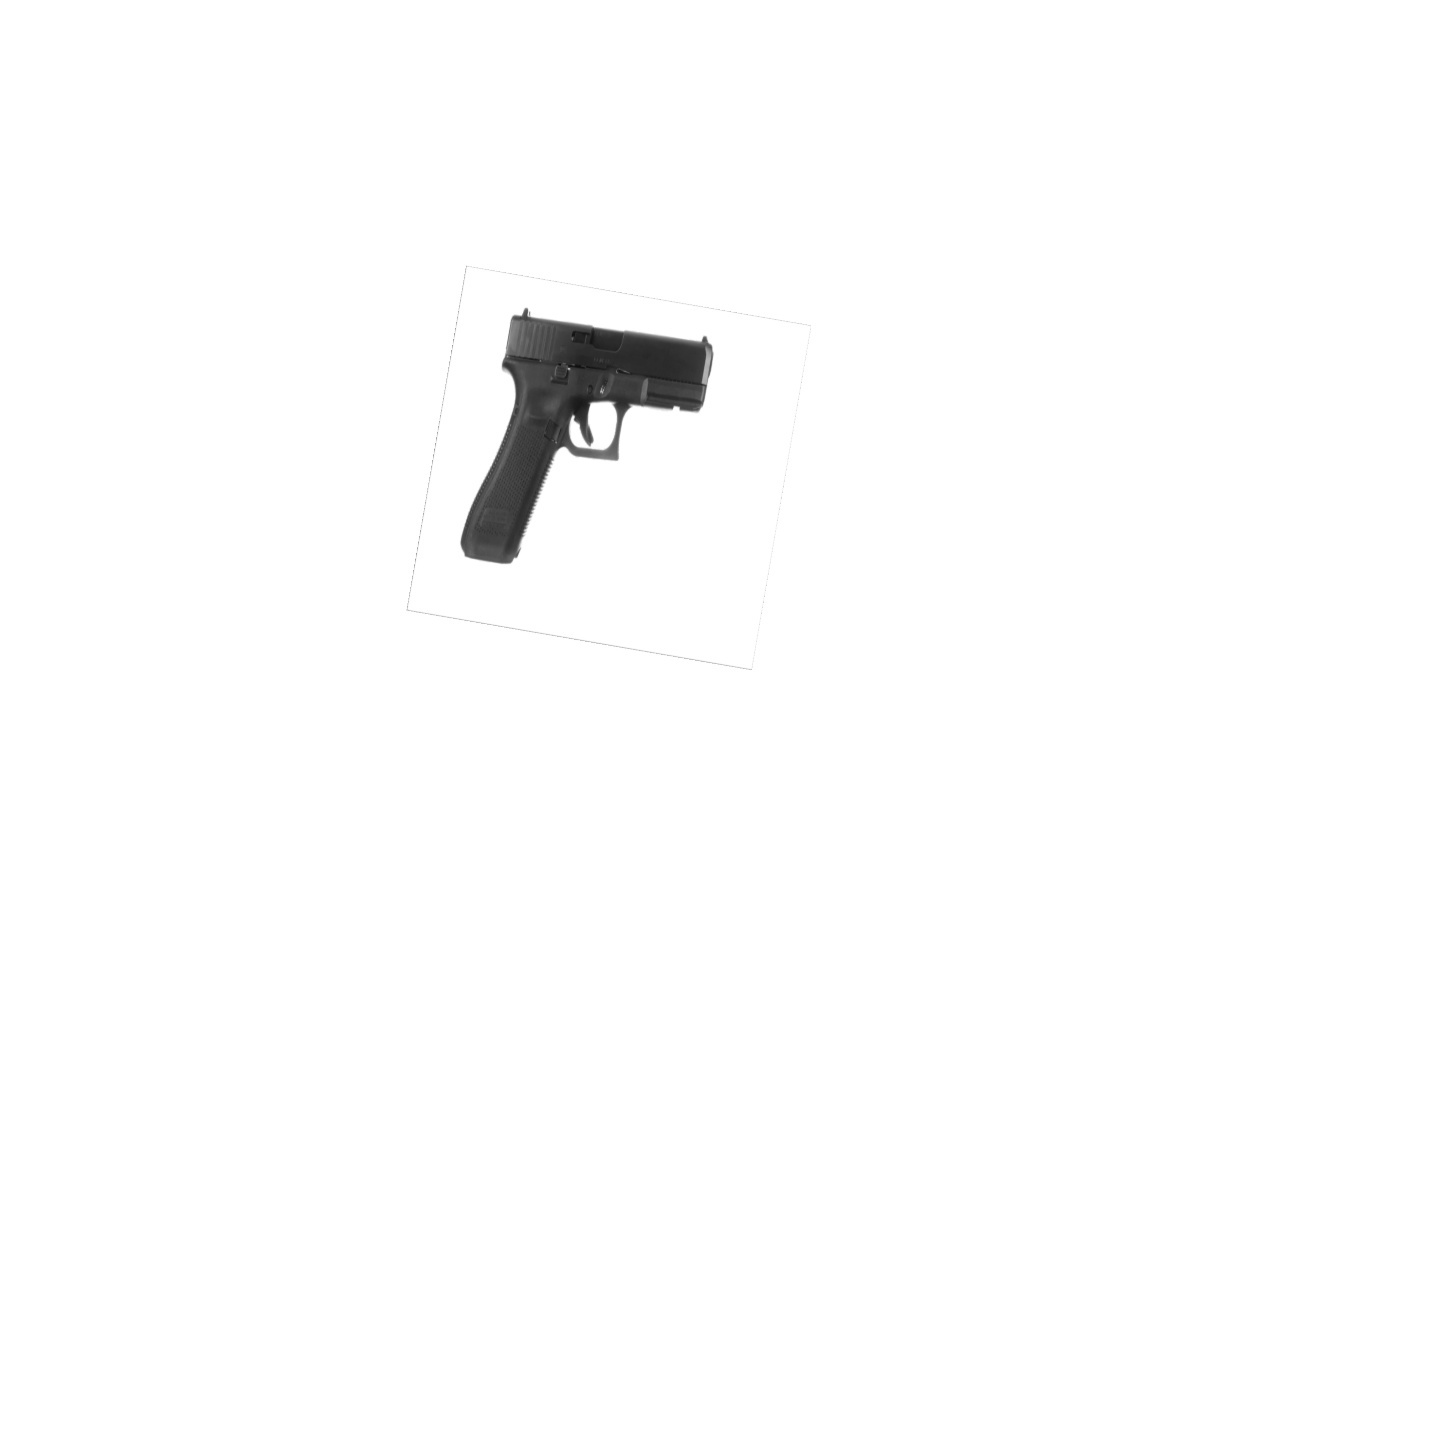gun: (446, 299, 728, 577)
